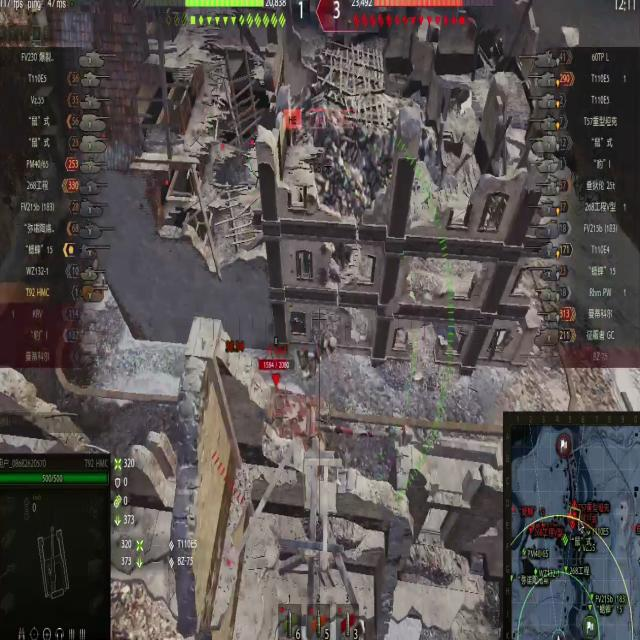tank: (255, 356, 349, 444)
